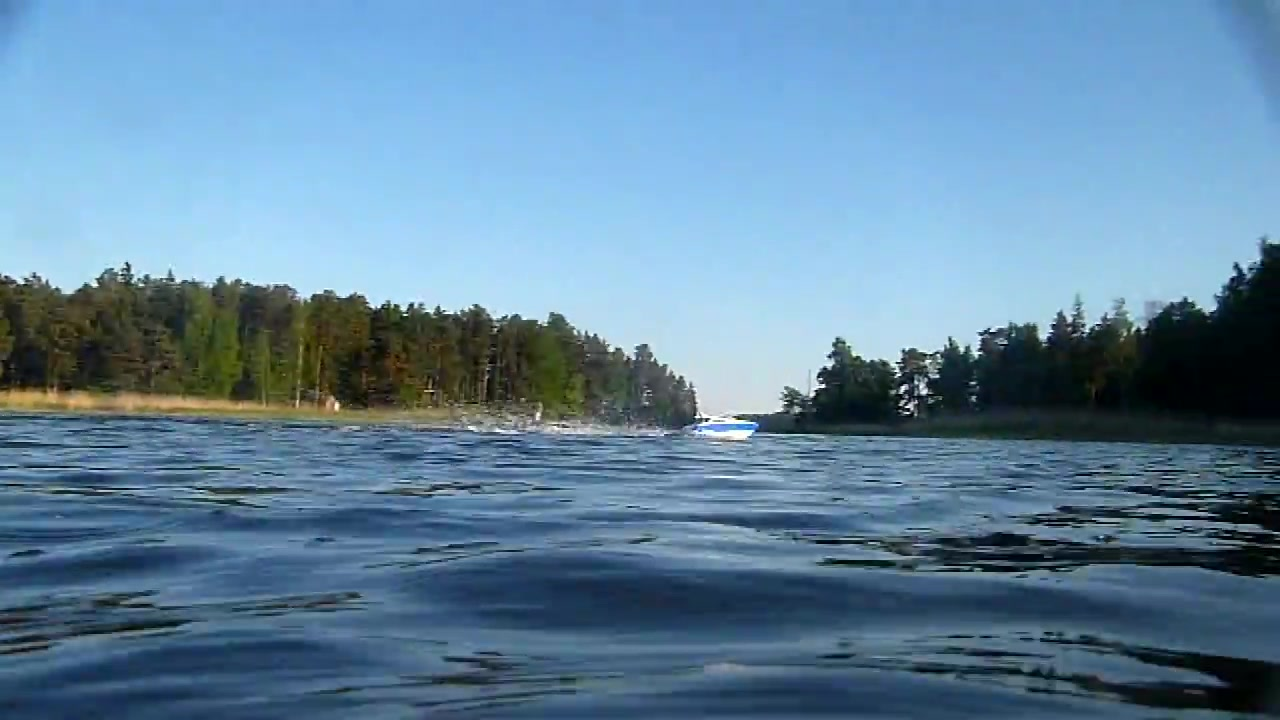boat: (684, 412, 765, 449)
